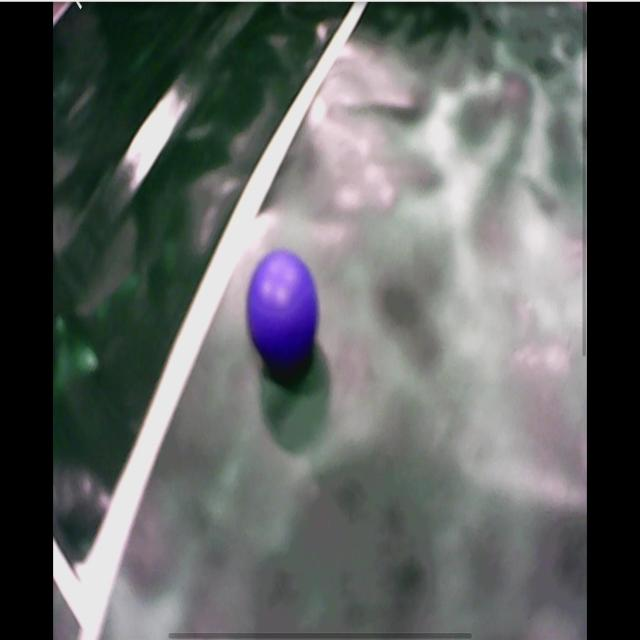ball: (247, 253, 322, 368)
